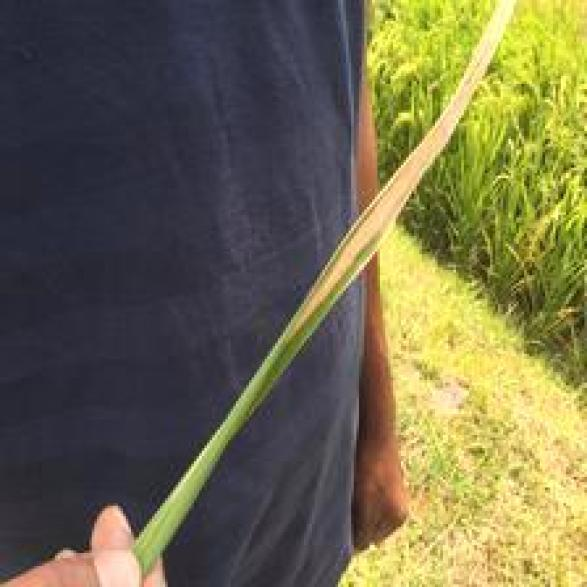Bacteria_Leaf_Blight: (286, 5, 495, 338)
